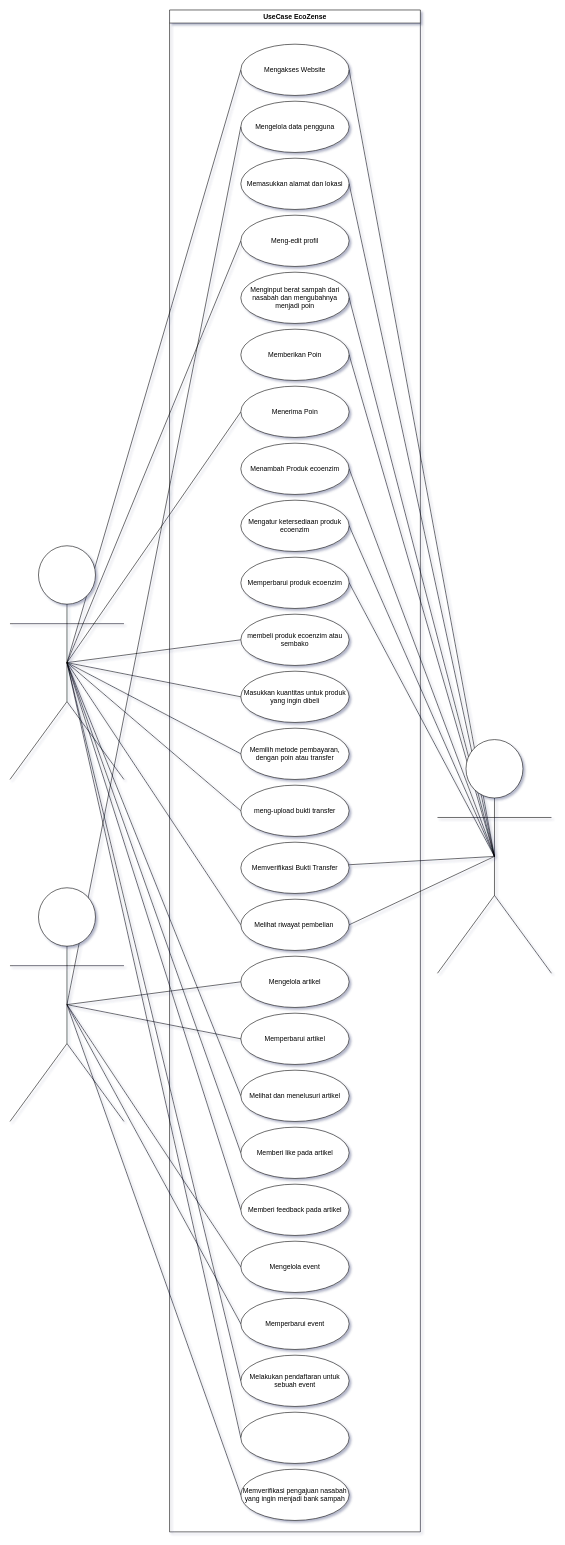
The diagram is 565 pixels wide and 1545 high, and some of its shapes have lost their labels. The shapes that lost their labels are listed below. From the top down, each one's centre as x and y in pixels, then its label:
At (66,662): "Nasabah".
At (494,856): "Pengelola Bank Sampah".
At (66,1004): "Admin".
At (294,1437): "Mengajukan diri untuk menjadi pengelola bank sampah".
